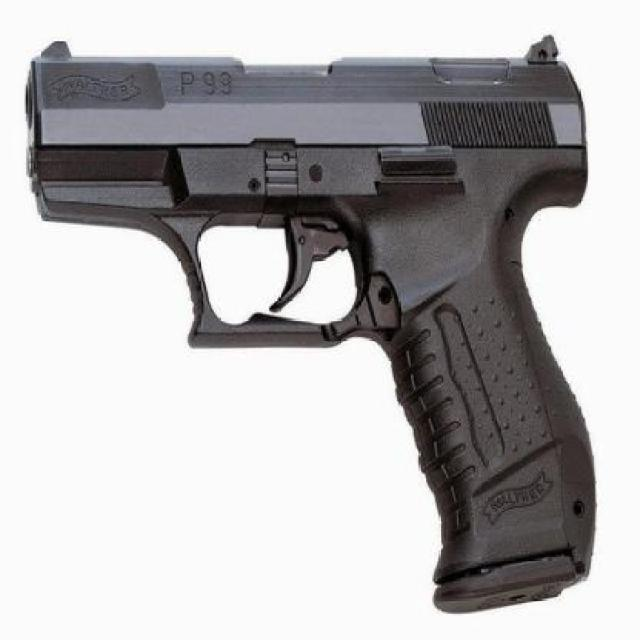guns: (22, 35, 596, 614)
